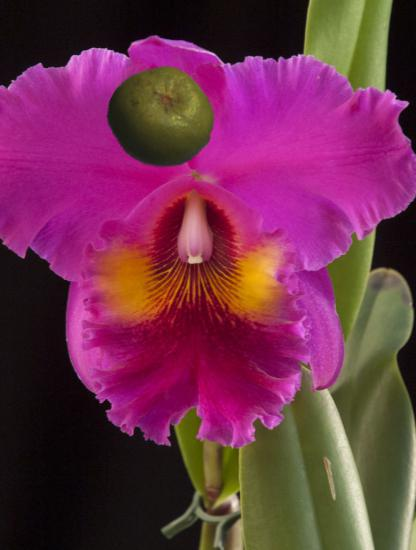Pomelo: (108, 63, 216, 171)
